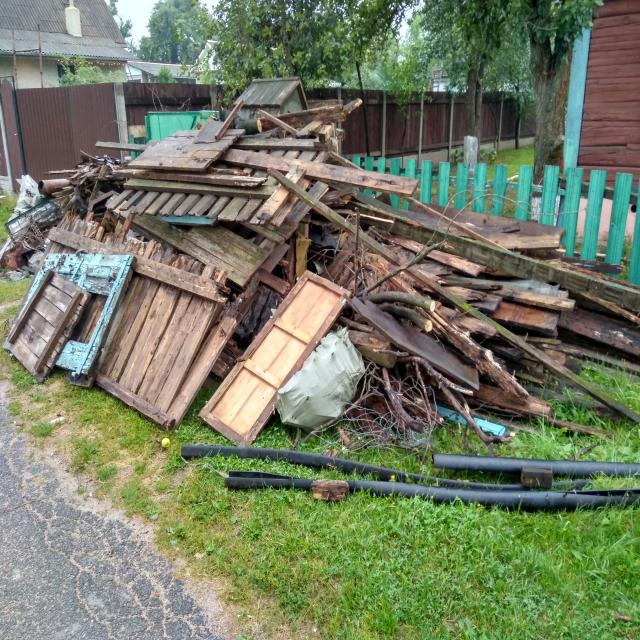entulho: (344, 232, 567, 445), (116, 111, 344, 232), (94, 270, 235, 436), (227, 469, 640, 517), (42, 159, 196, 255), (248, 271, 352, 394), (113, 228, 285, 299), (7, 268, 97, 382), (177, 442, 436, 479), (275, 323, 364, 429), (294, 157, 428, 224), (431, 443, 640, 481), (359, 211, 450, 290), (198, 358, 278, 445), (42, 158, 118, 222), (14, 172, 46, 214)
restos de madeira: (347, 350, 440, 438)
